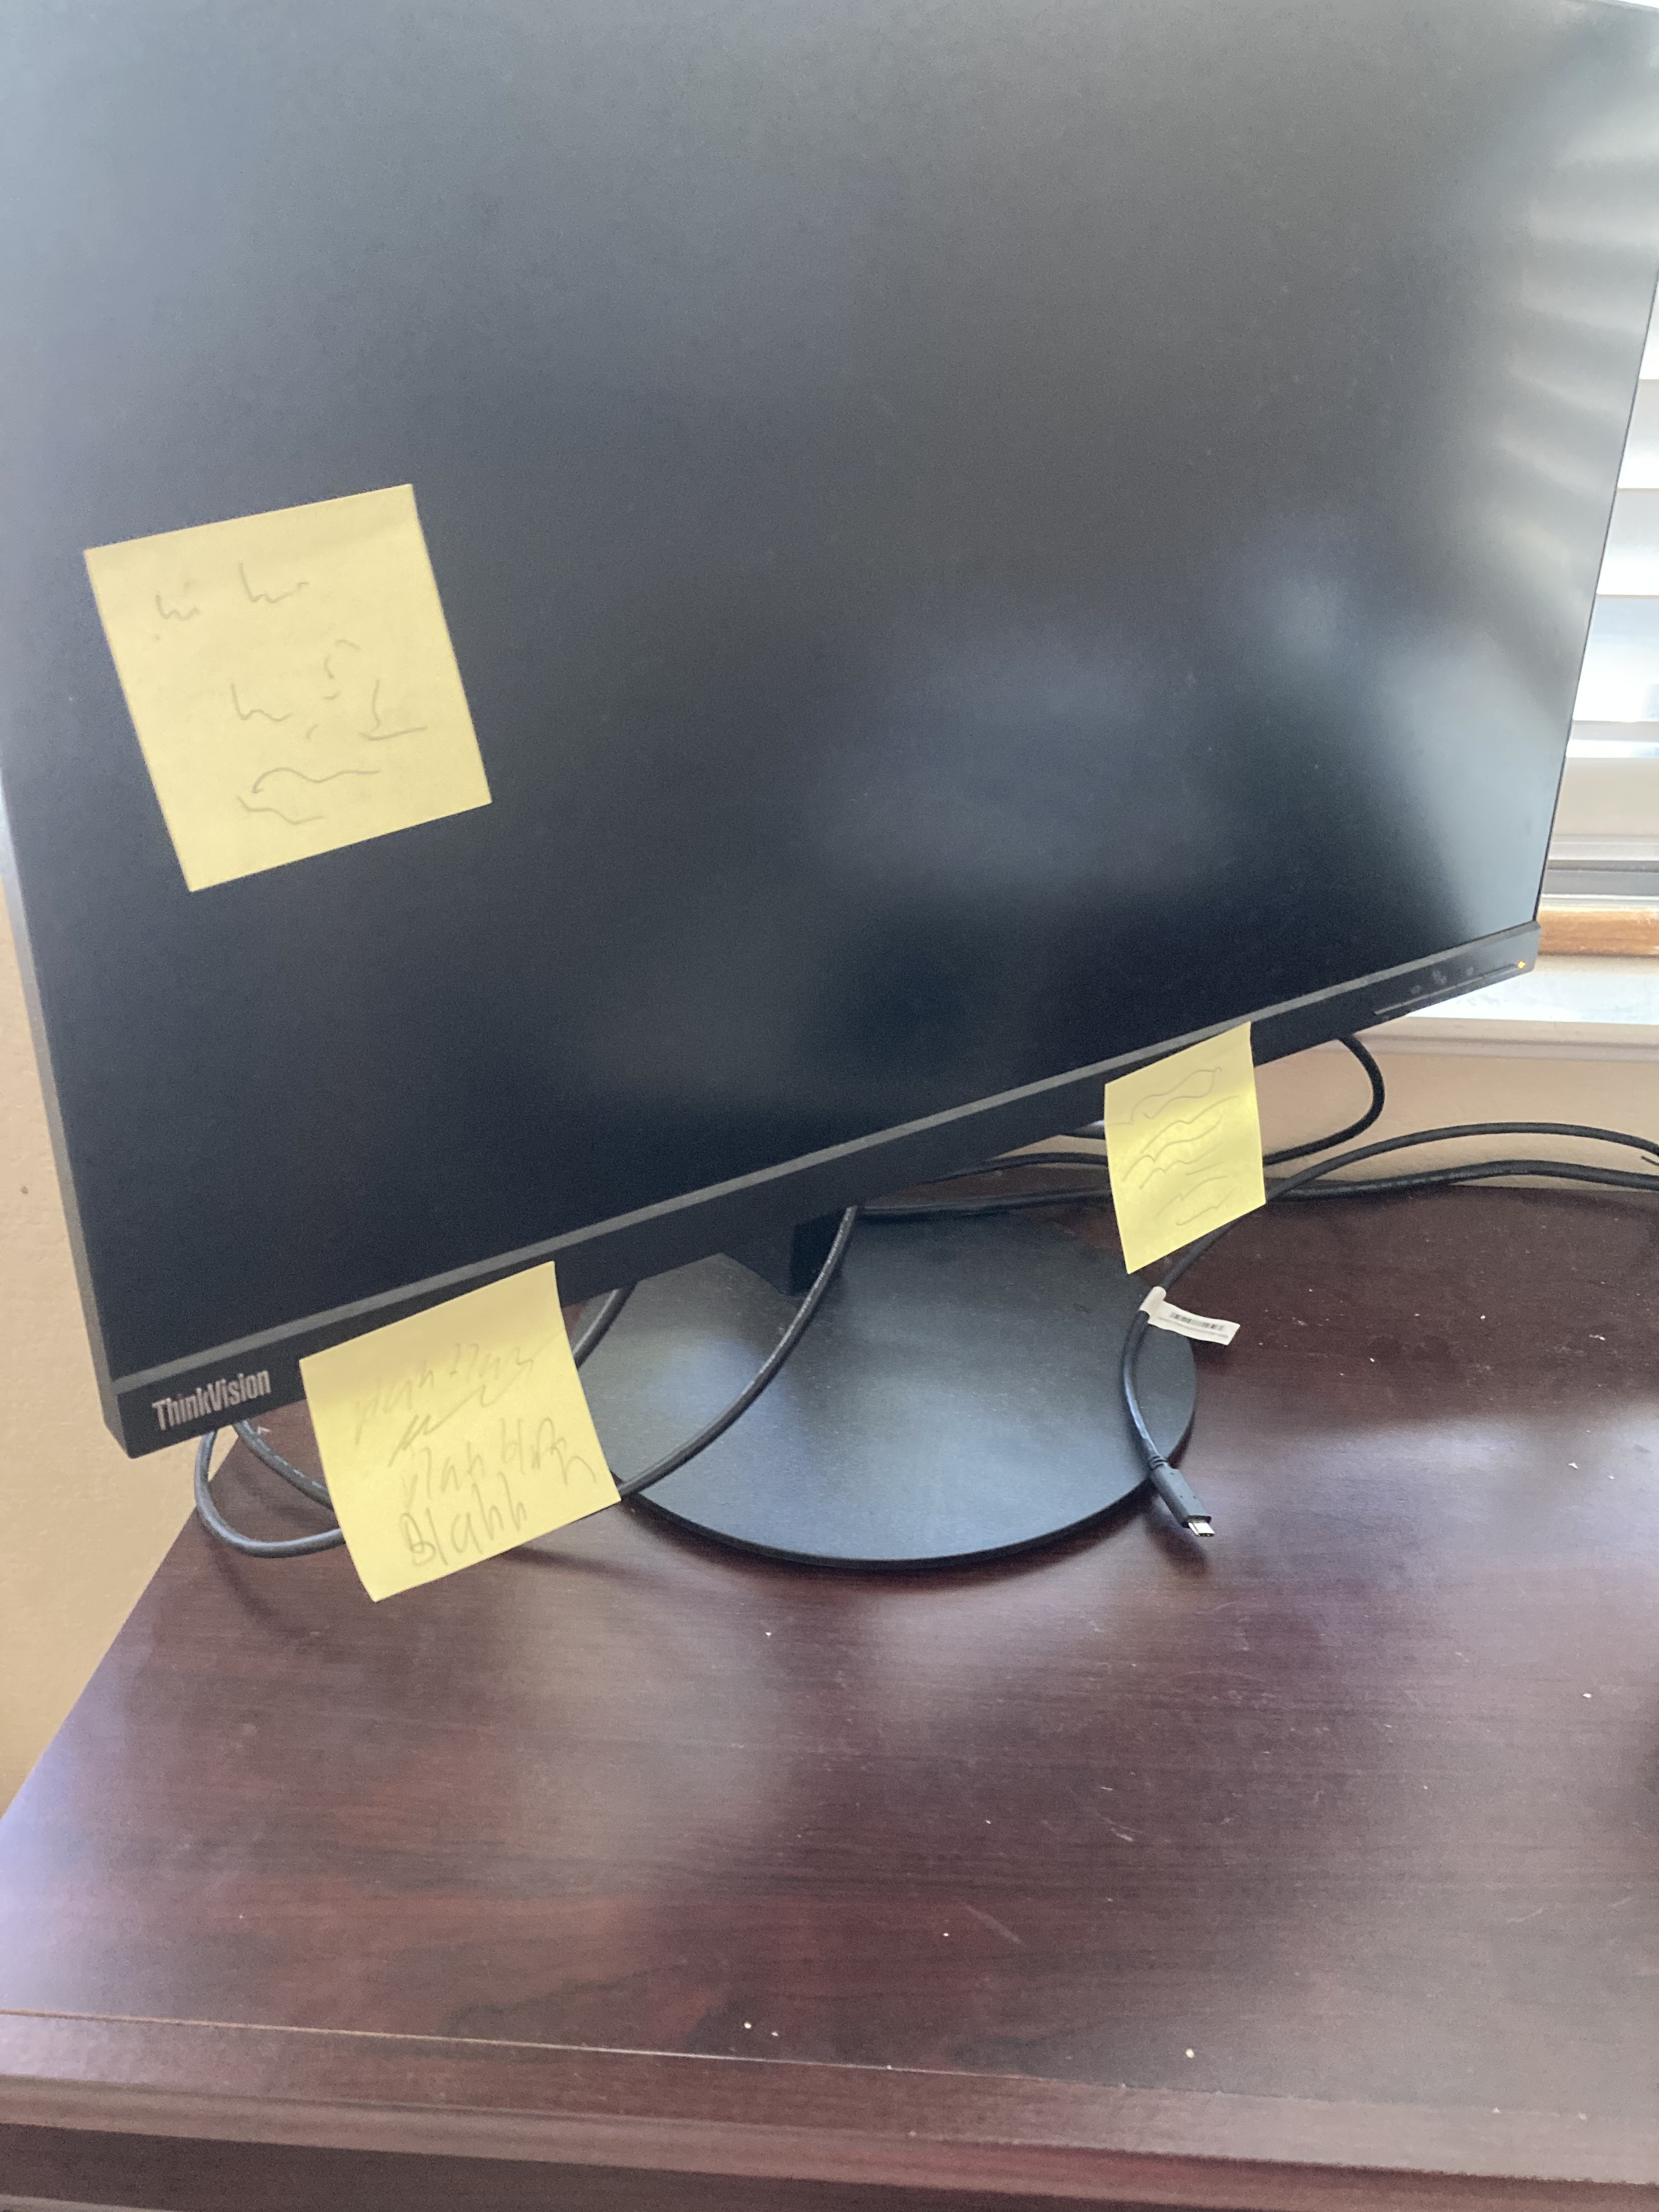Note: (84, 484, 511, 895), (310, 1261, 624, 1594), (1098, 1026, 1270, 1264)
